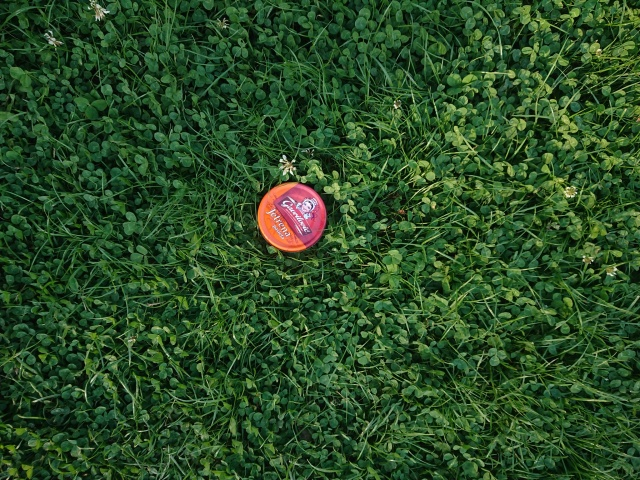Gavrilovic Pork Liver Pate 100g: (255, 180, 329, 253)
